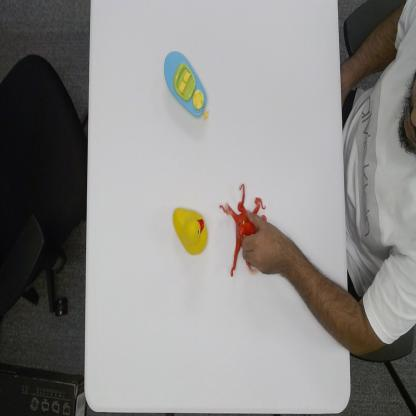Arm: (290, 231, 376, 356)
Boat: (163, 48, 210, 121)
Duck: (171, 205, 209, 257)
Hand: (241, 209, 288, 276)
Octopus: (218, 181, 267, 280)
